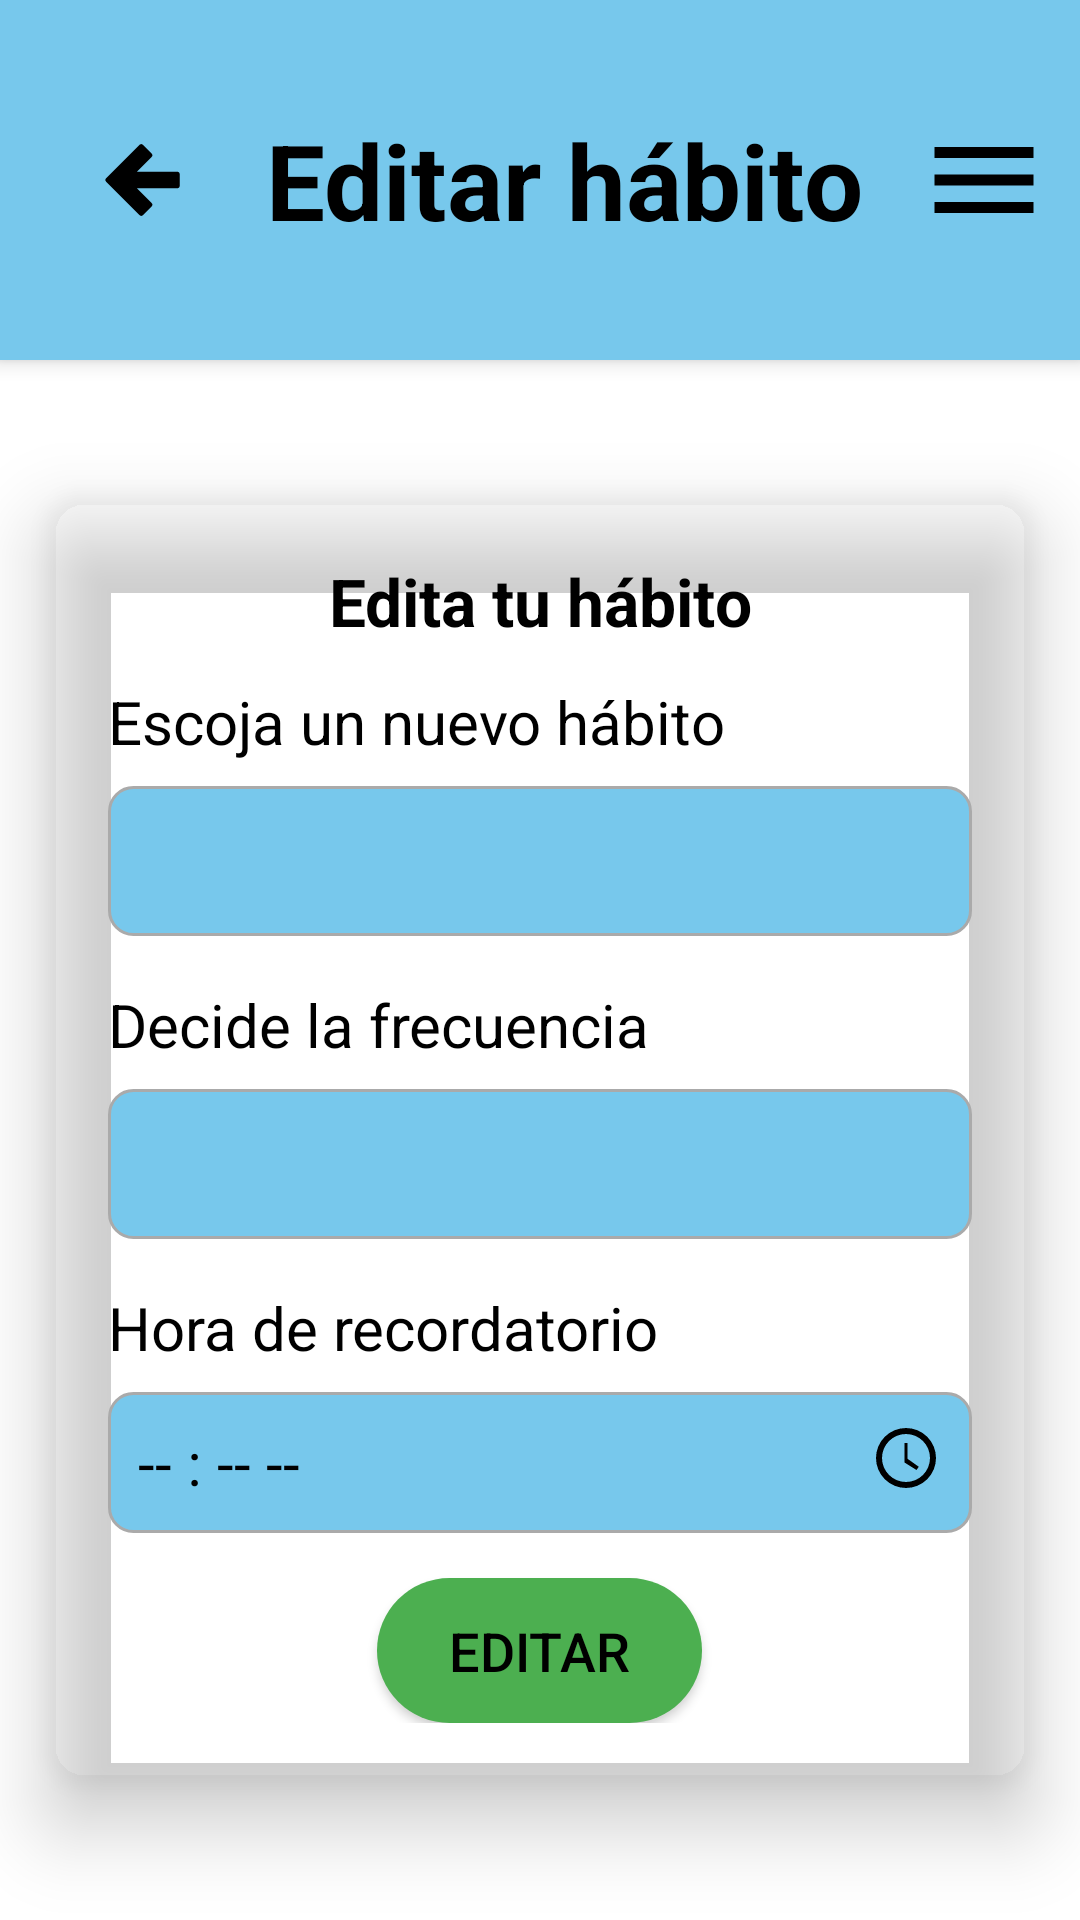

Screen size 1080x1920. Icon name, then its center in pixels as point (x, y):
Menú: point (984, 180)
Seleccionar hora: point (906, 1458)
Volver: point (142, 180)
